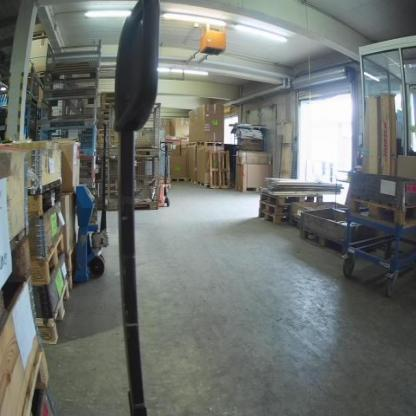pallet: (349, 196, 416, 231), (36, 278, 70, 343), (32, 232, 65, 285), (27, 178, 63, 216), (299, 227, 344, 256), (259, 192, 324, 207), (207, 150, 231, 190), (257, 209, 291, 224), (258, 202, 294, 215), (235, 184, 262, 193), (196, 140, 225, 147), (96, 103, 117, 111), (96, 88, 116, 94), (197, 180, 211, 188), (169, 177, 187, 183), (98, 94, 116, 99), (98, 99, 117, 103), (187, 141, 197, 147), (188, 178, 197, 184)
pallet_truck: (97, 1, 172, 414), (72, 120, 112, 294), (152, 137, 175, 211)
stillage: (101, 152, 164, 212), (104, 94, 164, 150), (38, 96, 100, 125), (44, 68, 101, 98), (47, 37, 100, 69), (38, 125, 100, 152), (19, 103, 39, 141), (83, 188, 102, 226), (78, 155, 97, 189), (26, 75, 45, 98)
